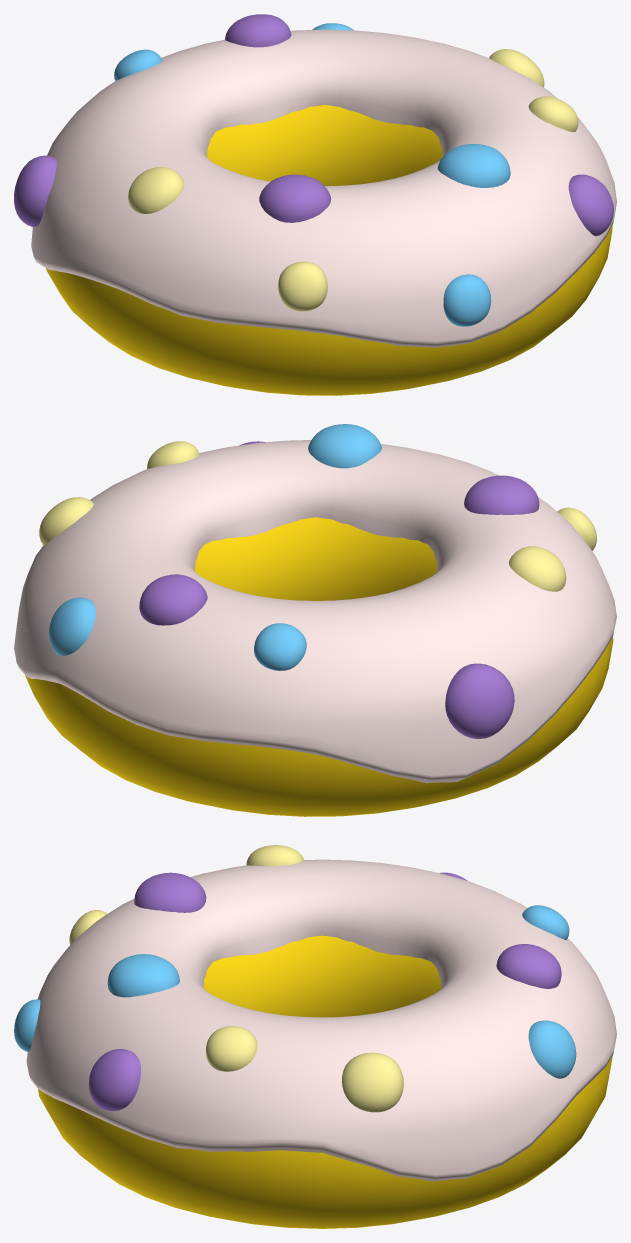
The model's file is Store_14_Donut_2.glb.
3 views of the same model, one above another, from view 1: azimuth 30°, elevation 25°; view 2: azimuth 150°, elevation 25°; view 3: azimuth 270°, elevation 25° (orthographic). The views are drawn at different scales.
Visible parts, largest first — view 1: Store_14_Donut_2; view 2: Store_14_Donut_2; view 3: Store_14_Donut_2.
Boxes of the visible parts, x1,y1,x2,y2 form: Store_14_Donut_2: [14, 14, 616, 395]; Store_14_Donut_2: [14, 424, 616, 816]; Store_14_Donut_2: [14, 845, 616, 1228].
Size of the model in its own units: 2.61 by 1.02 by 2.67.
Materials: 1 (1 with a texture image).
